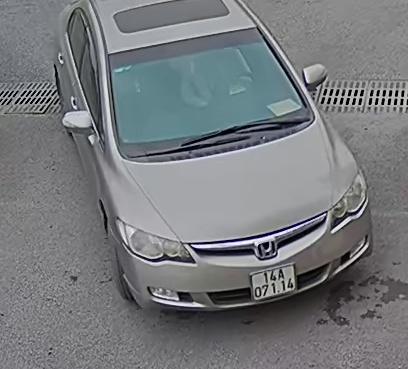vehicle plate: (245, 262, 299, 302)
